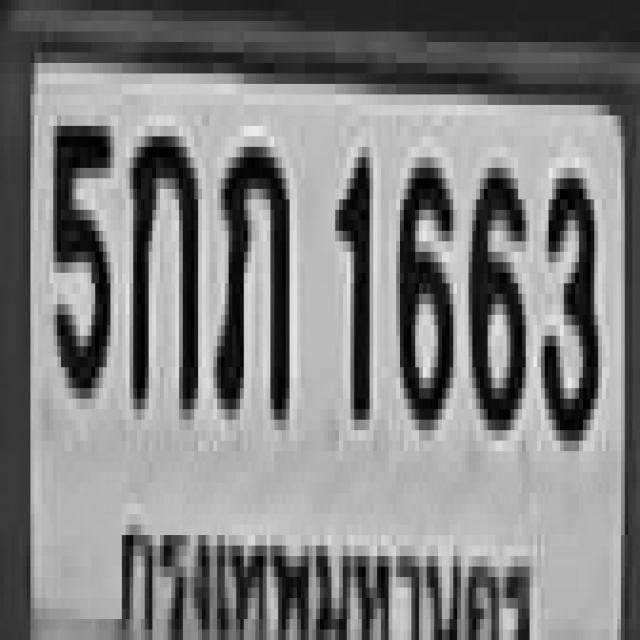1: (331, 147, 366, 409)
10GorGai: (126, 126, 194, 409)
3: (537, 157, 594, 430)
41PhorSamPhao: (213, 136, 286, 410)
5: (49, 115, 106, 388)
6: (465, 157, 522, 420), (396, 147, 450, 420)
Bangkok: (110, 492, 538, 640)
